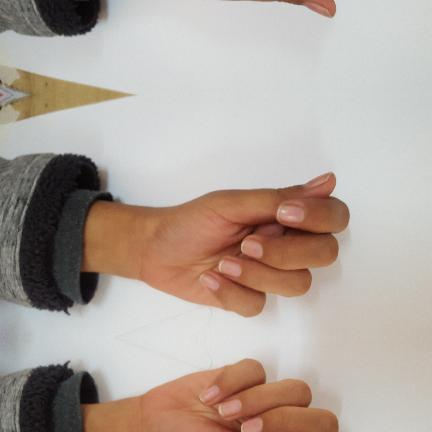Nail: (277, 204, 305, 222), (303, 170, 332, 187), (303, 1, 332, 18), (241, 238, 263, 258), (218, 259, 241, 276), (218, 398, 241, 415), (199, 273, 220, 290), (199, 384, 220, 401), (241, 416, 263, 432)
